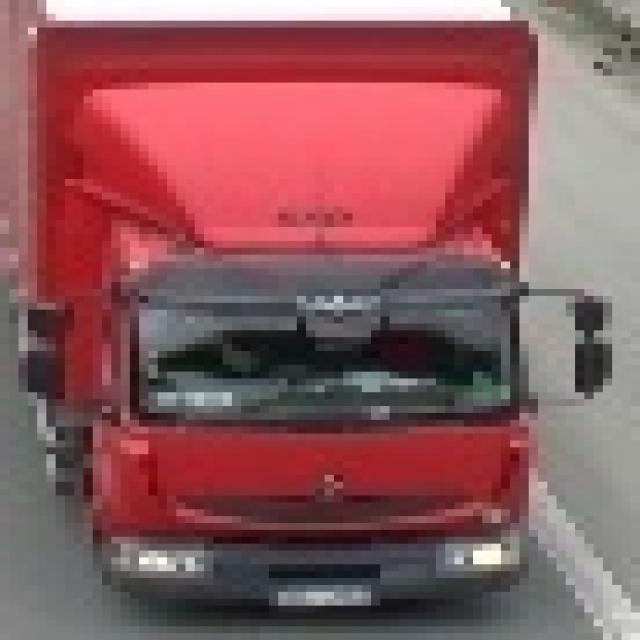truck: (0, 0, 603, 619)
